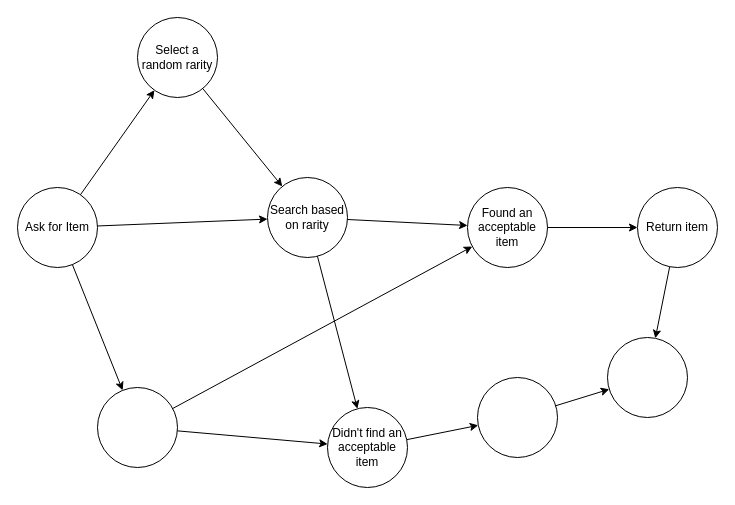
Some shapes in this 735 by 505 pixel diagram are drawn without their labels. Each missing label, with the centre of its shape:
Exit: pixel 647 377
Return null: pixel 517 417
Search for item name: pixel 137 427
